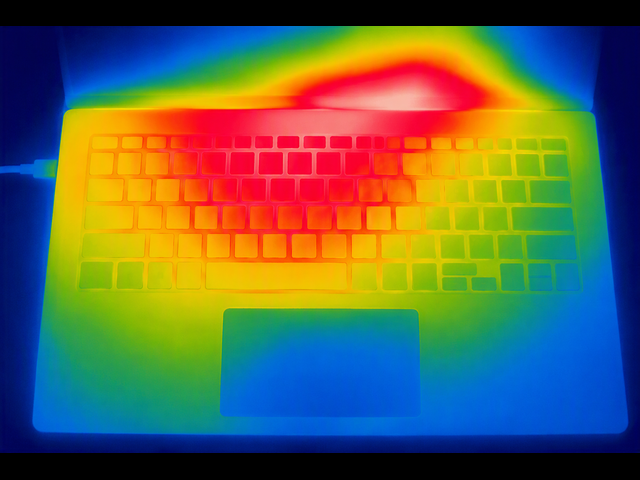c_cover: (34, 108, 630, 434)
